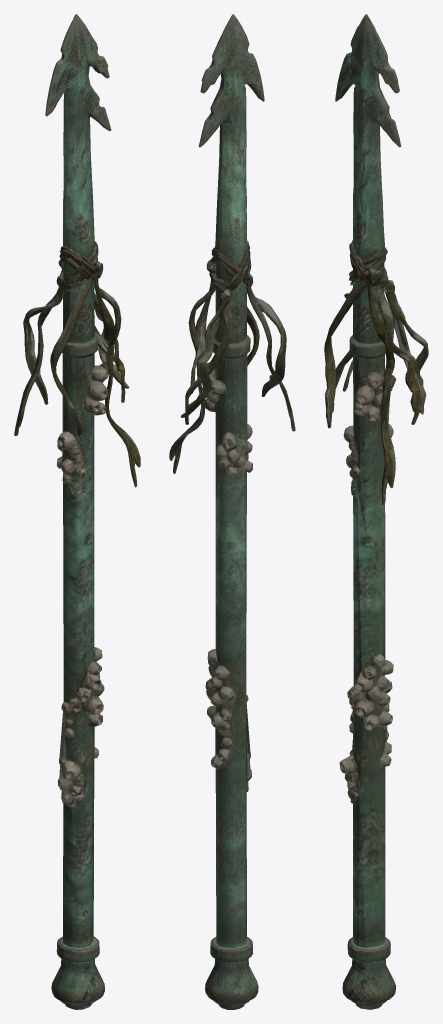
The model's file is weapon.glb.
3 views of the same model, side by side, from view 1: azimuth 30°, elevation 25°; view 2: azimuth 210°, elevation 25°; view 3: azimuth 330°, elevation 25° (orthographic).
Visible parts, largest first — view 1: mesh_node; view 2: mesh_node; view 3: mesh_node.
Part boxes in pixels (left/top/right/bottom): mesh_node: left=14, top=14, right=140, bottom=1009; mesh_node: left=169, top=14, right=295, bottom=1009; mesh_node: left=324, top=14, right=428, bottom=1009.
Size of the model in its own units: 0.2095 by 1.9 by 0.1687.
1 material, 1 textured.
